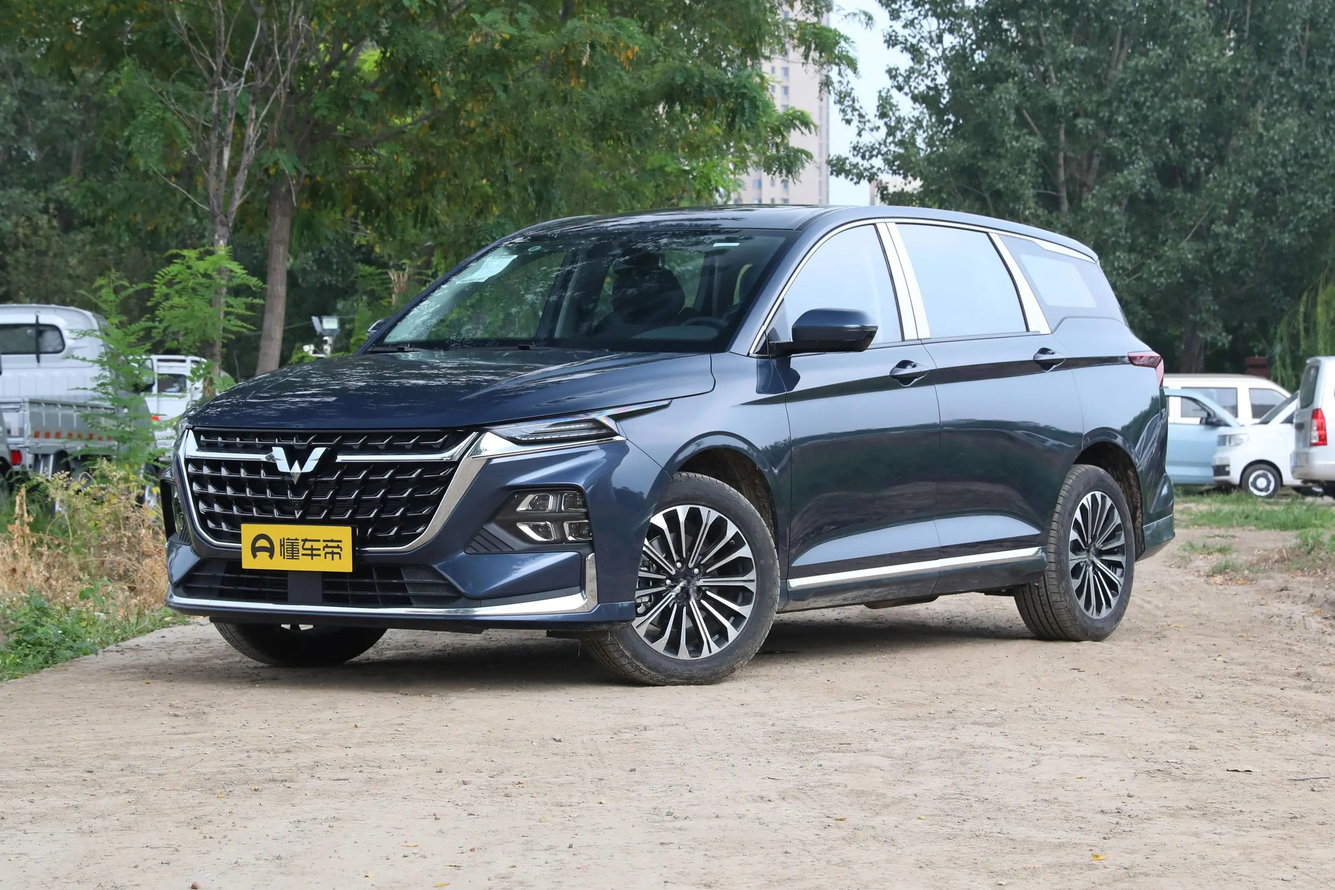SGMW: (272, 447, 325, 484)
